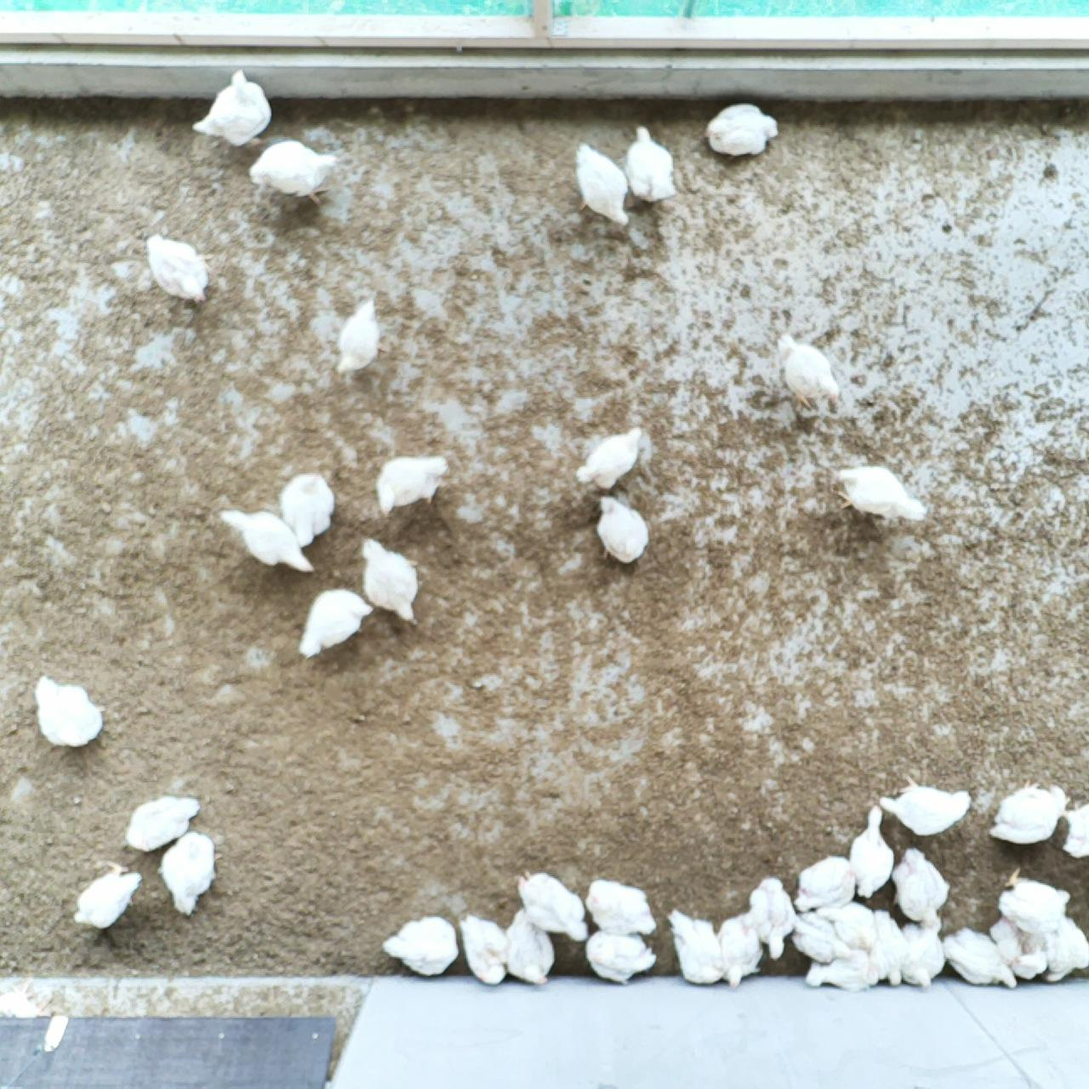chicken: (214, 501, 319, 579), (188, 64, 277, 151), (827, 457, 934, 528), (770, 327, 848, 417), (876, 768, 976, 838), (247, 135, 341, 208), (154, 829, 227, 920), (512, 864, 593, 945), (29, 672, 110, 752), (293, 585, 374, 663), (357, 534, 425, 624), (70, 855, 148, 933), (568, 140, 634, 230), (144, 229, 219, 308), (888, 844, 953, 935), (377, 909, 462, 978), (986, 777, 1069, 847), (942, 924, 1025, 993), (993, 861, 1075, 930), (371, 451, 455, 518), (572, 423, 649, 493), (847, 801, 899, 902), (122, 788, 202, 853), (327, 291, 388, 376), (273, 470, 343, 544), (621, 122, 681, 208), (587, 493, 652, 572), (580, 874, 662, 936), (665, 904, 723, 990), (986, 909, 1051, 984), (702, 100, 780, 160), (502, 904, 557, 989), (747, 872, 798, 963), (581, 928, 659, 986), (456, 908, 511, 988), (794, 851, 860, 916), (715, 907, 764, 990), (863, 909, 914, 987), (895, 919, 948, 991), (790, 907, 853, 965), (810, 894, 872, 946), (801, 948, 869, 995), (1040, 919, 1089, 984), (1057, 798, 1089, 865)
